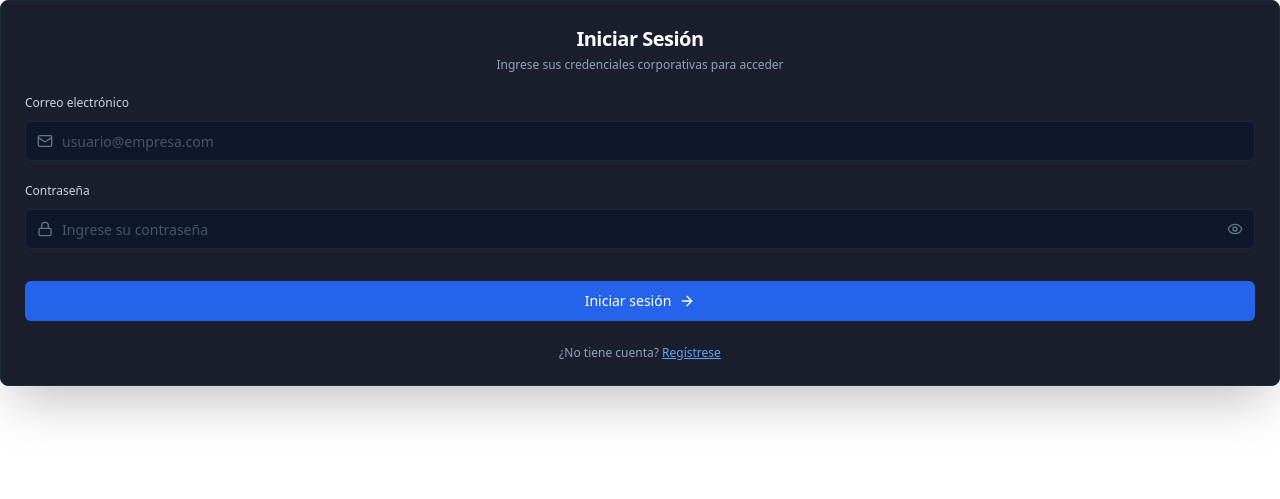
Test: LoginPage › shows a rate-limit message on 429
Type "admin@erp.com" into the field labelled "Correo electrónico". click: (640, 141)
box: x1=25 y1=121 x2=1255 y2=161
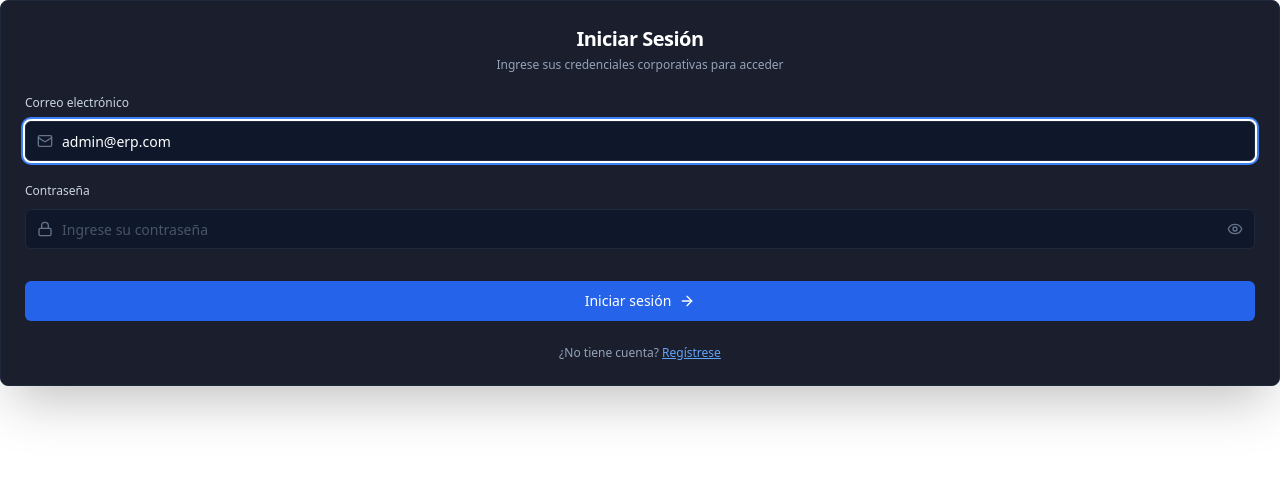
Type "Secret123!" into the password field labelled "Contraseña". click: (640, 229)
box: x1=25 y1=209 x2=1255 y2=249
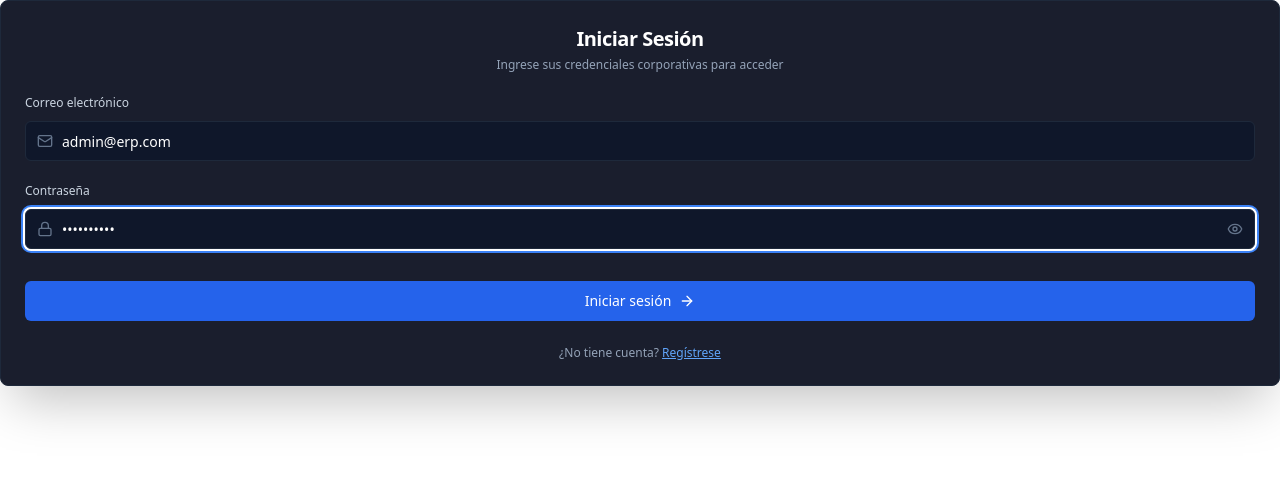
Click the button "Iniciar sesión". click: (640, 301)
box: x1=25 y1=281 x2=1255 y2=321
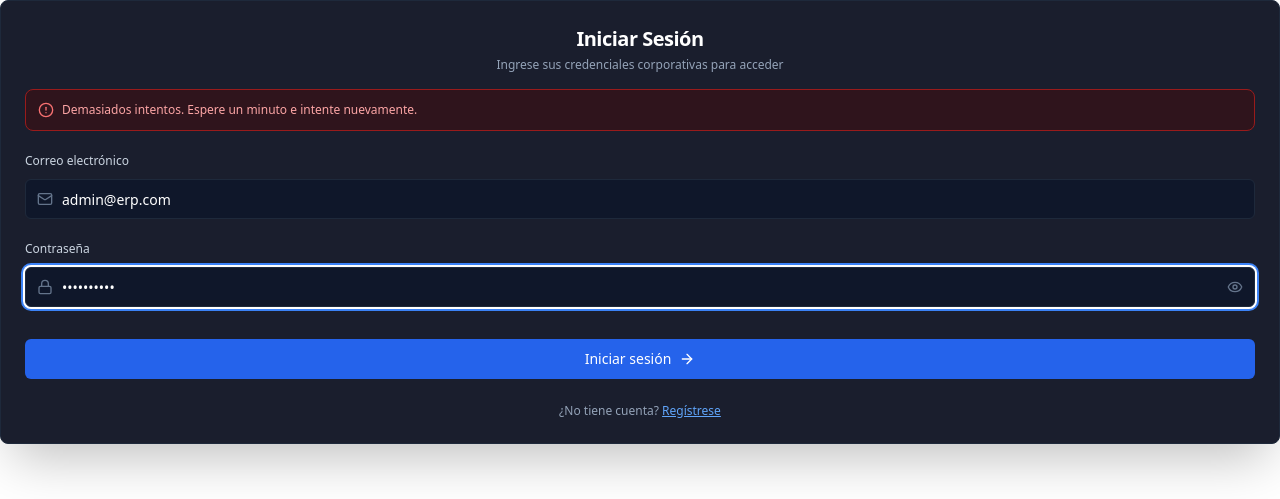
Expected: the text "Demasiados intentos. Espere un minuto e intente nuevamente." is shown, x1=62 y1=102 x2=417 y2=118
